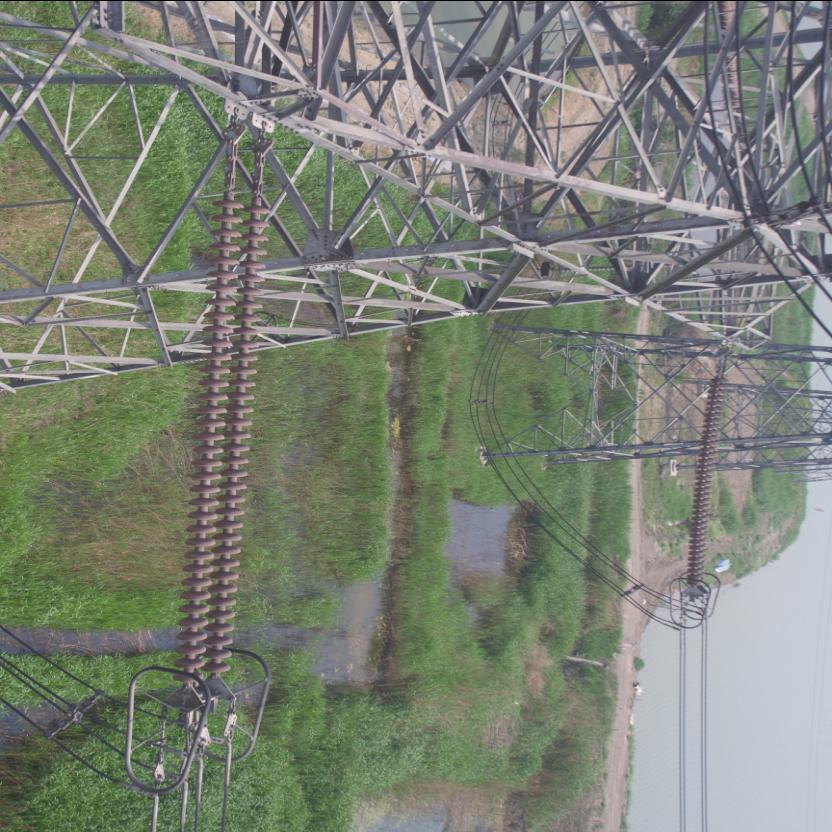insulator: (171, 177, 276, 697), (688, 365, 730, 590)
